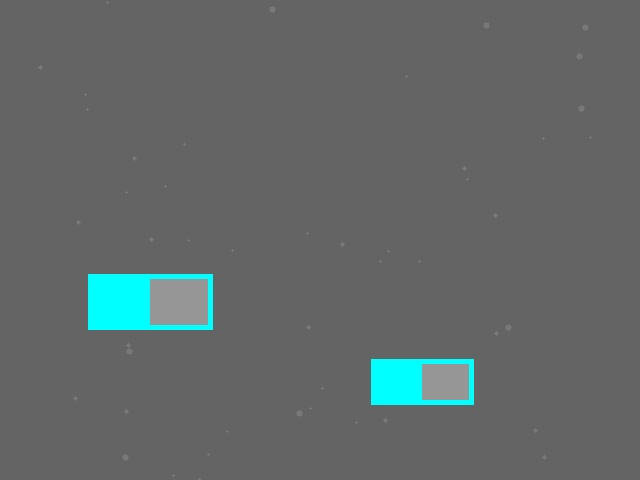truck: (88, 274, 212, 329), (371, 359, 473, 404)
